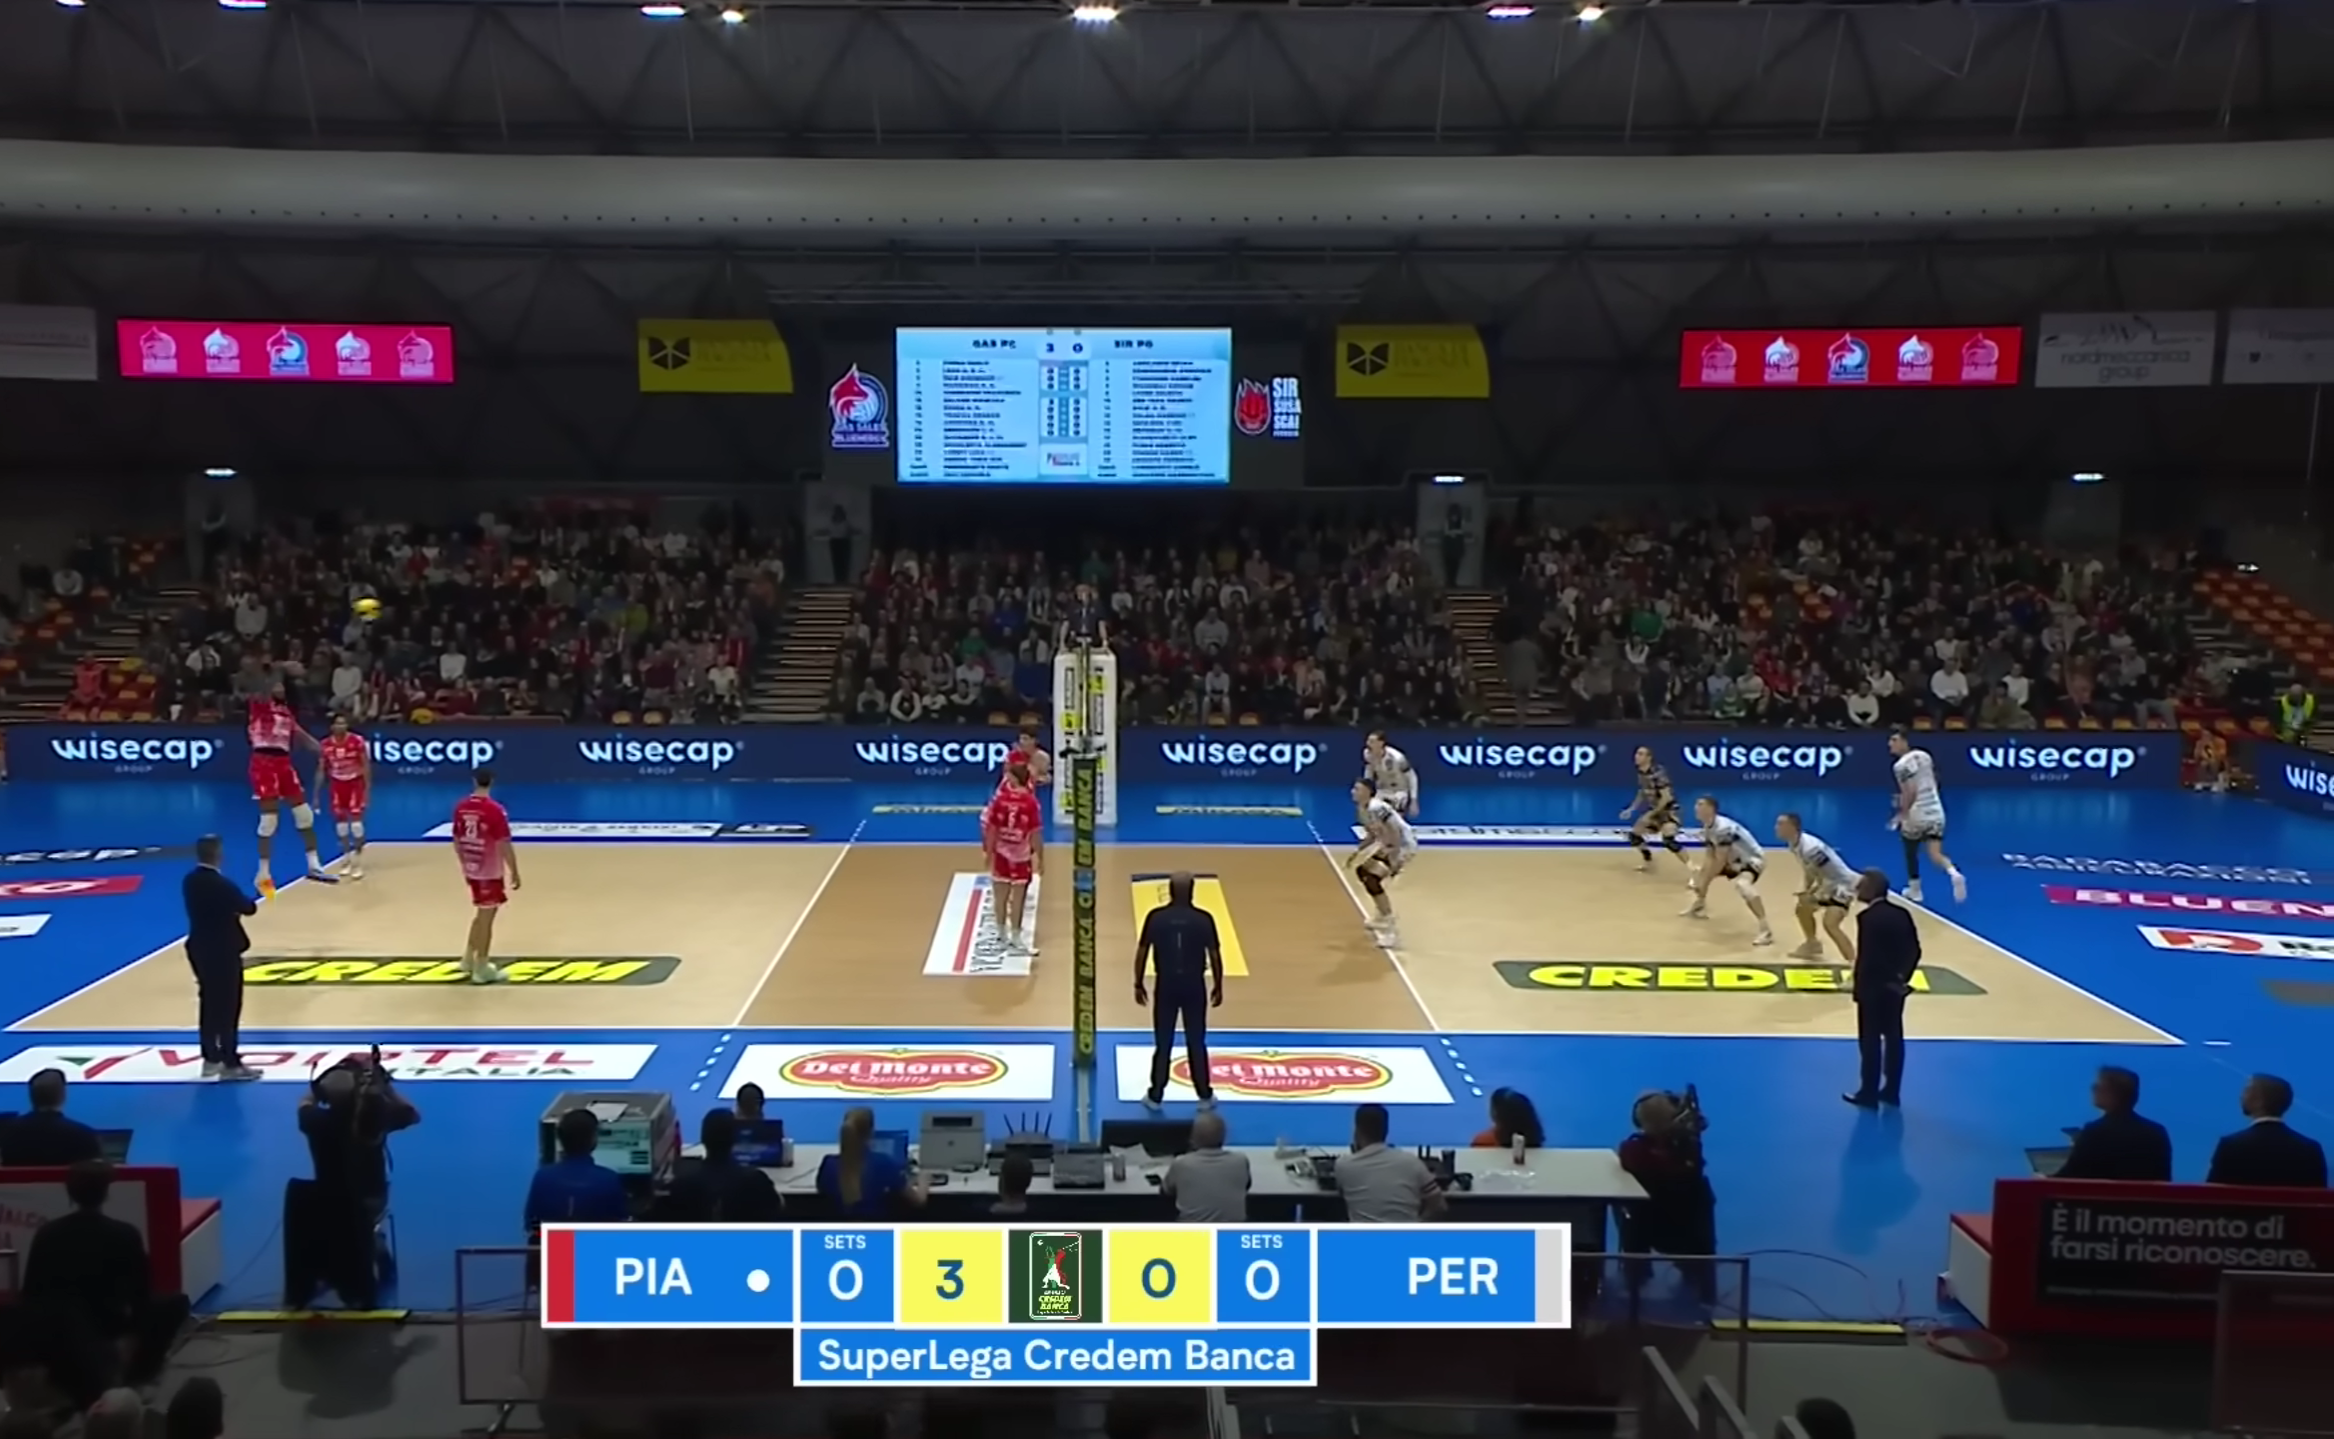Ball: (349, 596, 385, 620)
